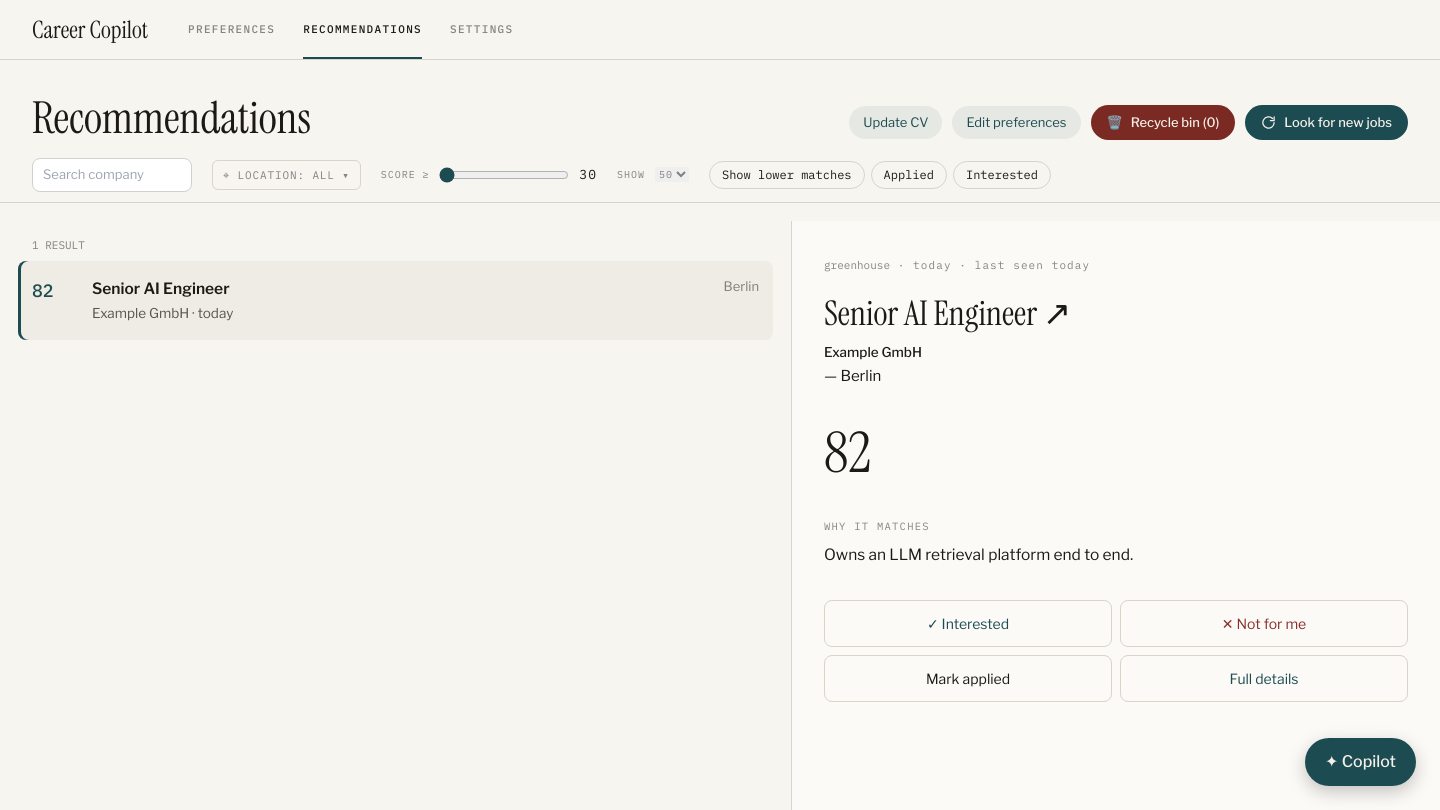
Test: review screen › saves a row, says it is pinned, and keeps it in the list
Click the button with aria-label "Good fit: Senior AI Engineer": (968, 623) [824,600,1112,647]
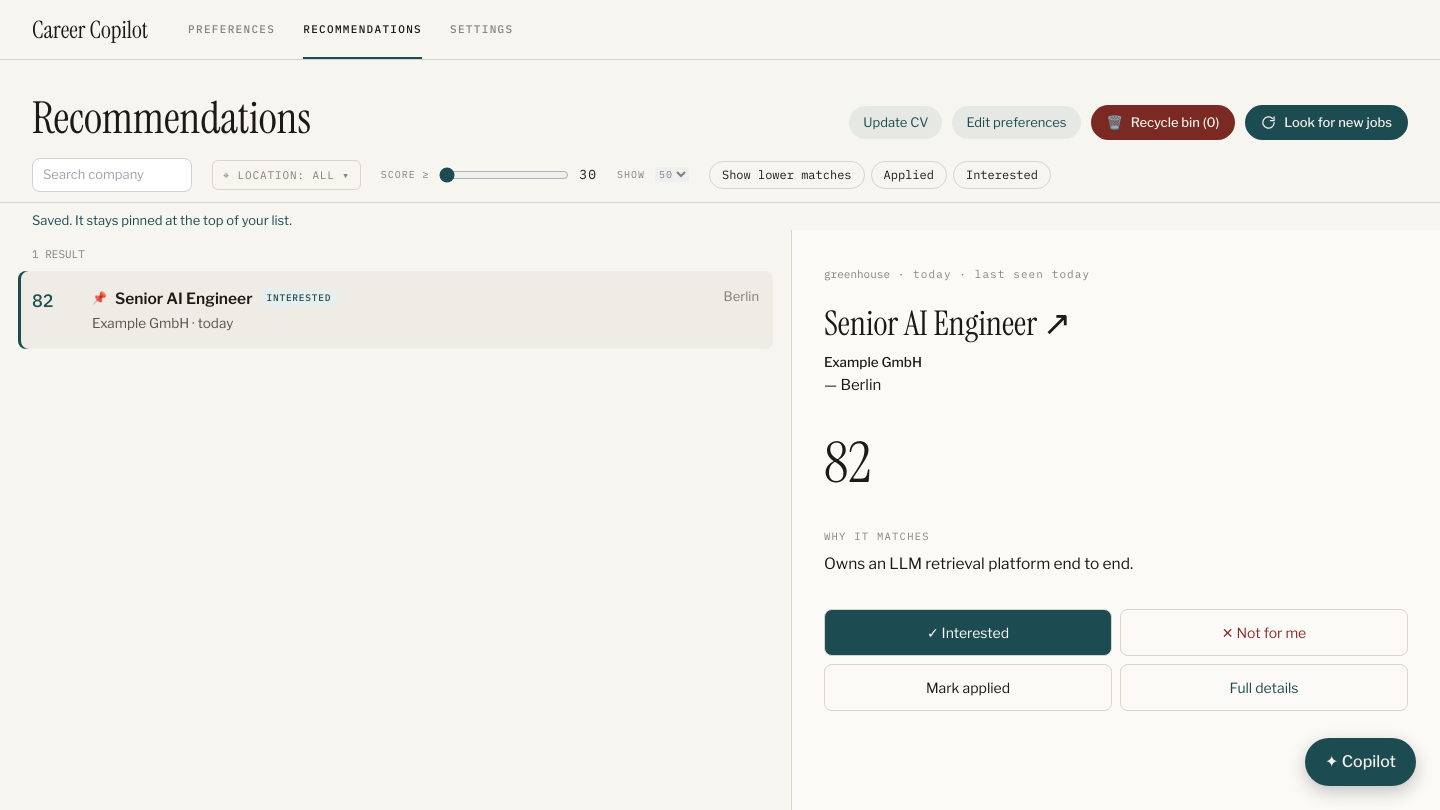
expect the text "Saved. It stays pinned at the top of your list." is shown: met, box [32,212,292,228]
expect the picture named "Saved" is shown: met, box [92,289,107,307]
